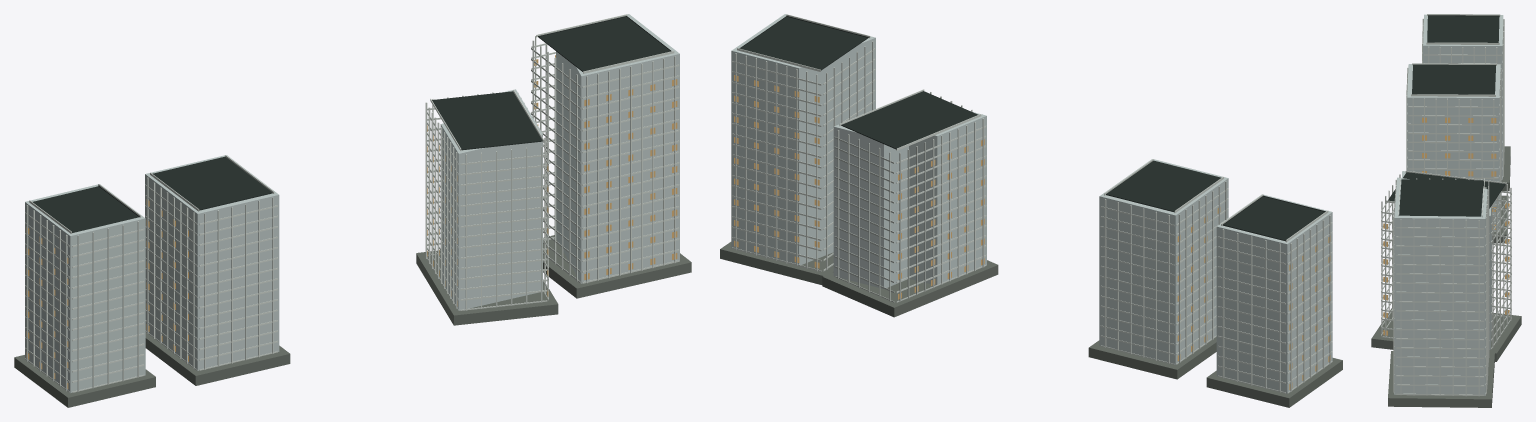
File: venture-neighbors.glb
3 renders of one model, left to right at view 1: azimuth 30°, elevation 25°; view 2: azimuth 150°, elevation 25°; view 3: azimuth 270°, elevation 25°, orthographic. The views are drawn at different scales.
Visible parts, largest first — view 1: envelope, fins, floor_bands, roof_deck, podium, night_windows, parapet; view 2: envelope, fins, floor_bands, roof_deck, podium, night_windows, parapet; view 3: envelope, fins, roof_deck, floor_bands, podium, parapet, night_windows.
Boxes of the visible parts, bbox=[...] form: envelope: bbox=[25, 14, 679, 392]; fins: bbox=[26, 36, 675, 391]; floor_bands: bbox=[25, 43, 679, 392]; roof_deck: bbox=[33, 16, 671, 232]; podium: bbox=[14, 235, 691, 407]; night_windows: bbox=[26, 55, 677, 388]; parapet: bbox=[29, 14, 674, 233]; envelope: bbox=[731, 14, 1332, 393]; fins: bbox=[735, 41, 1330, 392]; floor_bands: bbox=[732, 48, 1332, 393]; roof_deck: bbox=[739, 16, 1325, 241]; podium: bbox=[720, 242, 1342, 407]; night_windows: bbox=[734, 75, 1330, 389]; parapet: bbox=[737, 14, 1328, 242]; envelope: bbox=[1394, 14, 1503, 395]; fins: bbox=[1381, 18, 1511, 396]; roof_deck: bbox=[1388, 15, 1505, 216]; floor_bands: bbox=[1381, 52, 1511, 395]; podium: bbox=[1371, 146, 1521, 407]; parapet: bbox=[1386, 14, 1506, 217]; night_windows: bbox=[1383, 117, 1509, 335].
Bounding box in the file's own units: 379 × 130 × 94.78.
